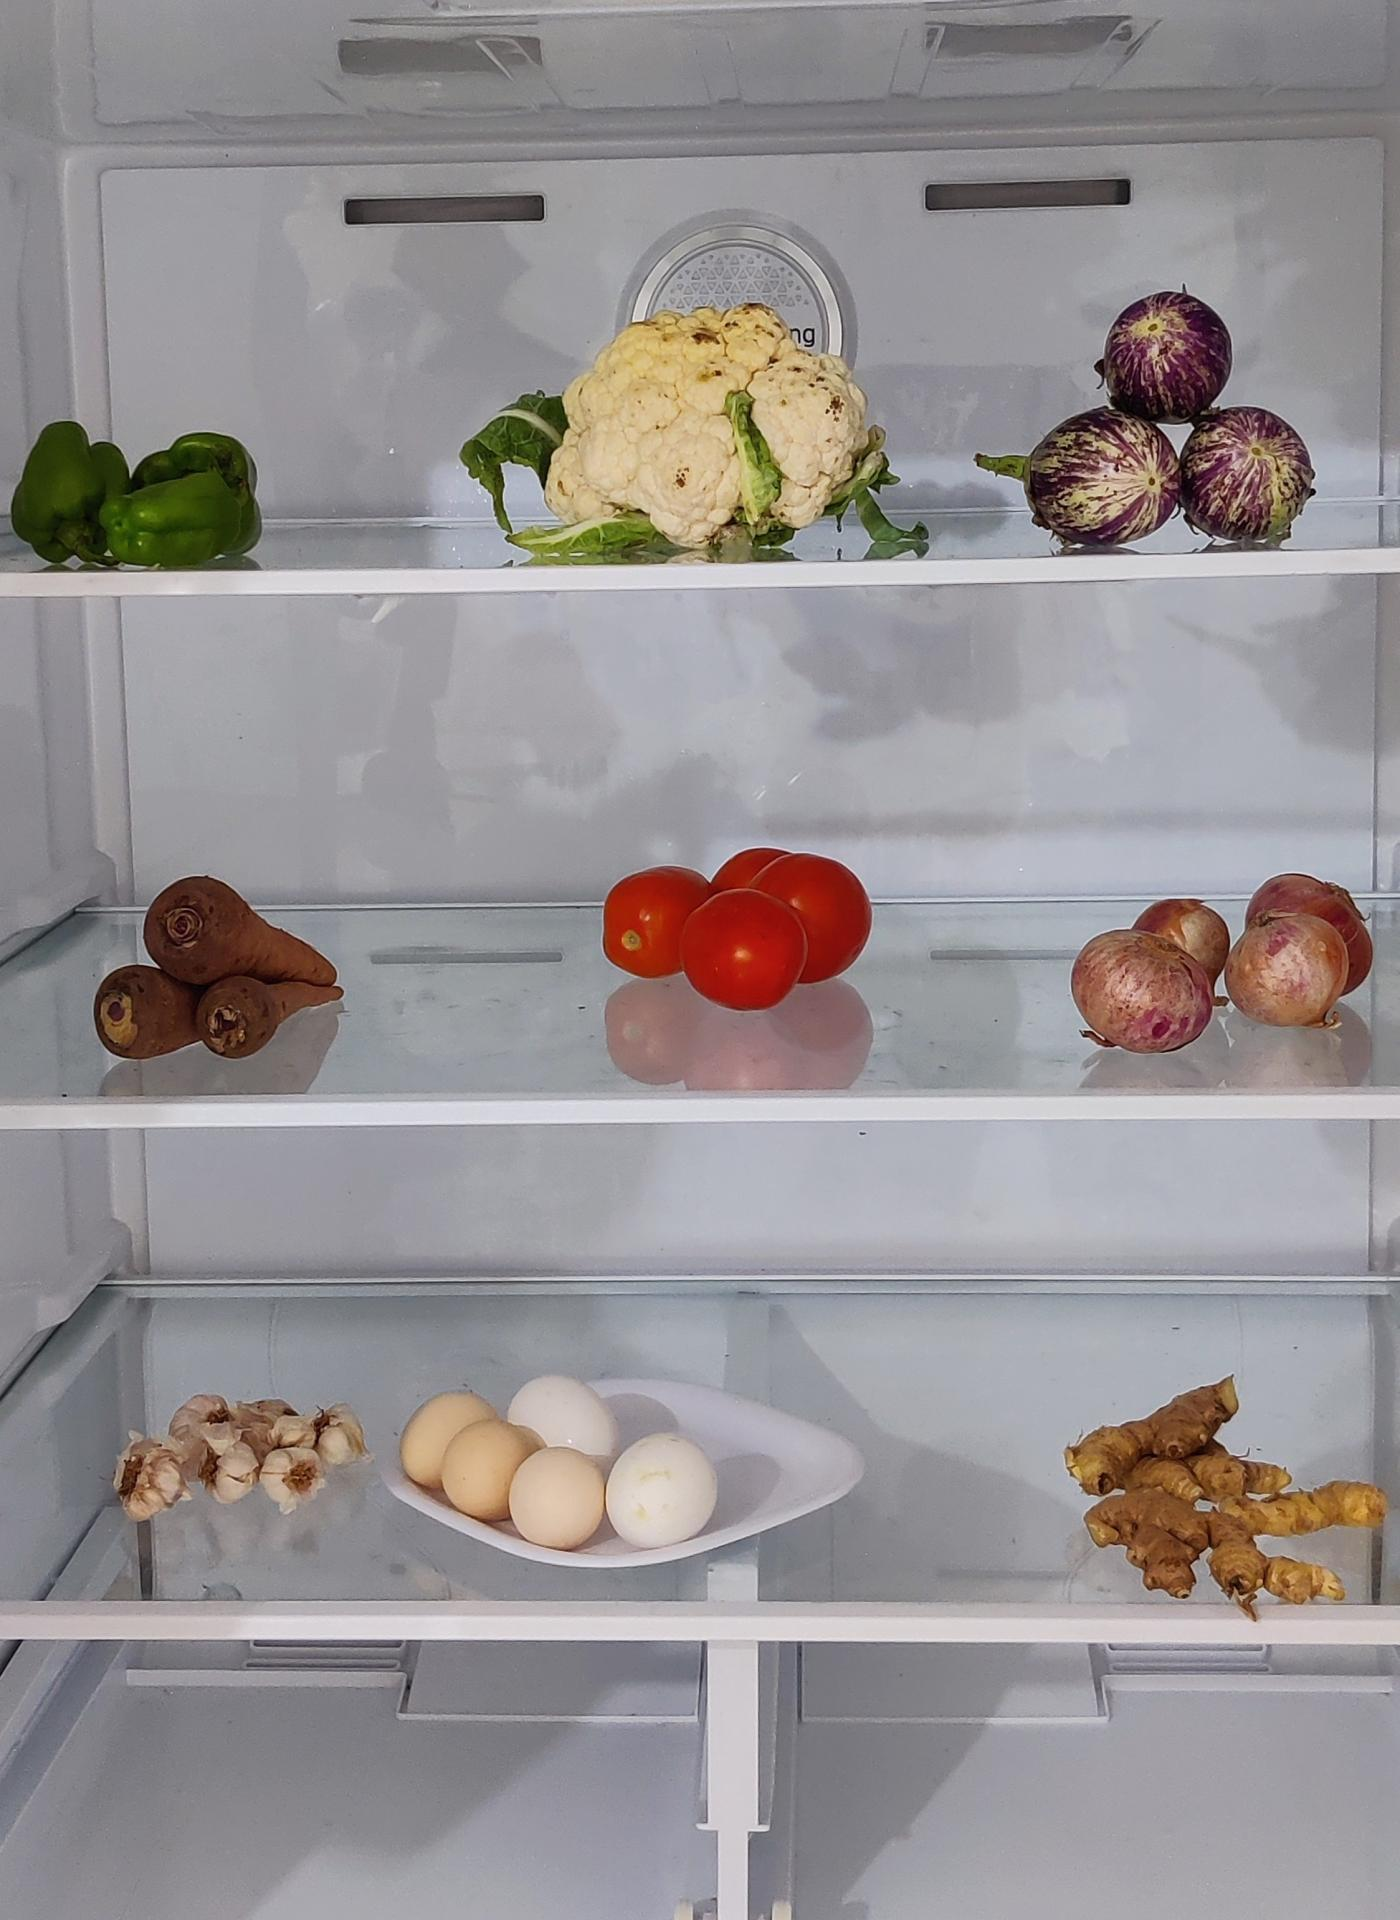brinjal: (1024, 297, 1321, 549)
capsicum: (10, 425, 271, 578)
carrots: (91, 875, 344, 1069)
cauliflower: (543, 303, 893, 550)
egg: (409, 1362, 732, 1538)
garlic: (101, 1386, 364, 1509)
ginger: (1079, 1362, 1399, 1597)
onion: (1069, 877, 1373, 1060)
tomato: (605, 847, 878, 1014)
